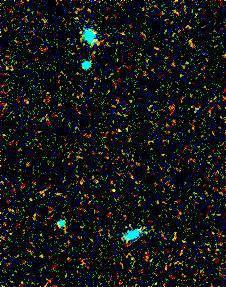star: (97, 176, 127, 206)
